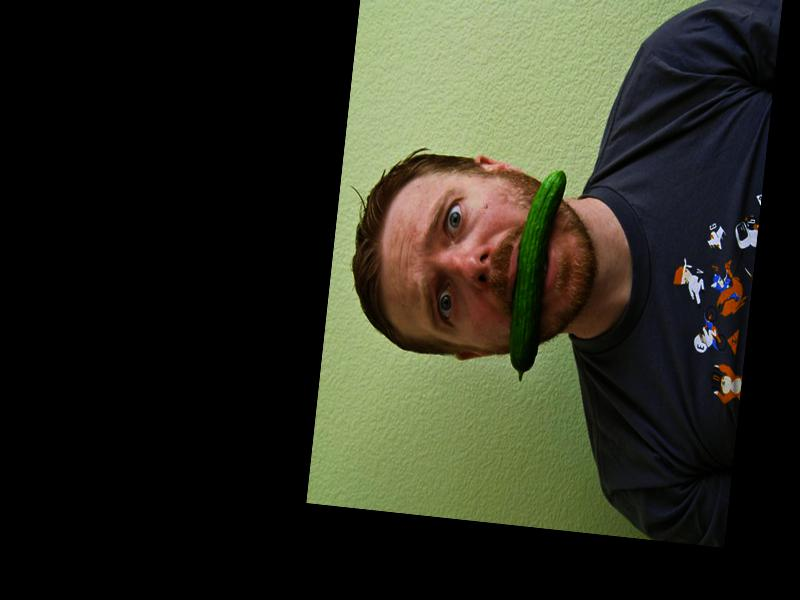Cucumber: (504, 164, 568, 384)
